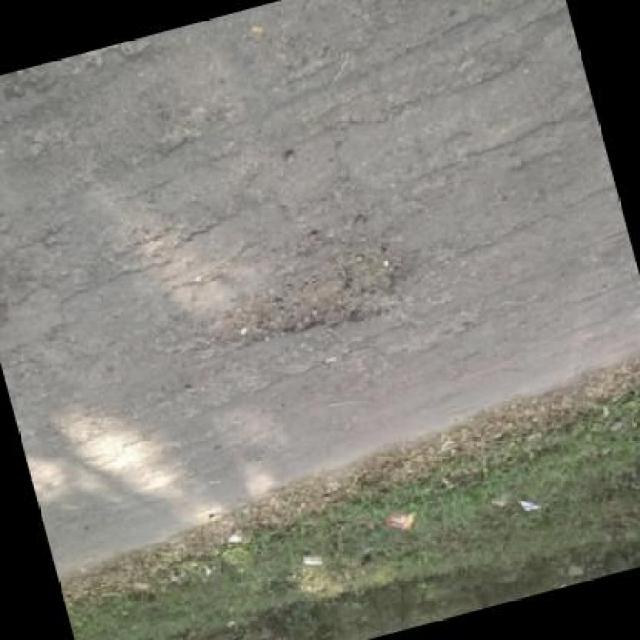pothole1: (189, 225, 426, 363)
